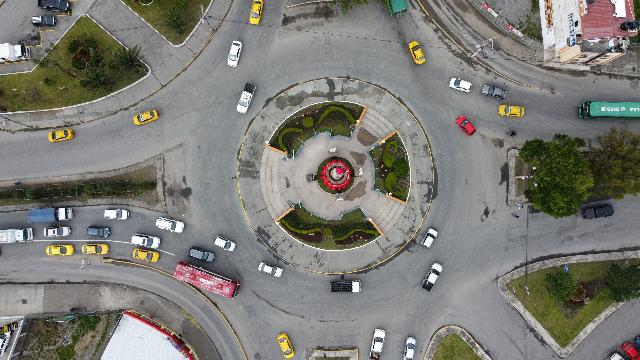Vehiculo: (236, 82, 256, 114), (422, 263, 442, 291), (1, 228, 34, 244), (582, 204, 614, 220), (156, 217, 184, 233), (370, 329, 384, 360), (132, 233, 160, 248), (278, 332, 294, 358), (189, 246, 215, 262), (456, 116, 476, 136), (132, 248, 160, 262), (409, 41, 425, 65), (134, 110, 158, 126), (258, 262, 282, 278), (228, 41, 242, 67), (48, 128, 74, 142), (249, 0, 263, 26), (0, 330, 14, 356), (387, 0, 407, 18), (214, 236, 236, 252), (37, 1, 69, 12), (448, 78, 472, 92), (482, 85, 506, 99), (46, 244, 74, 256), (421, 228, 437, 248), (104, 208, 130, 220), (498, 105, 524, 117), (403, 336, 415, 360), (88, 225, 110, 237), (44, 226, 70, 236), (82, 244, 108, 254), (32, 16, 56, 26), (56, 207, 72, 221)
